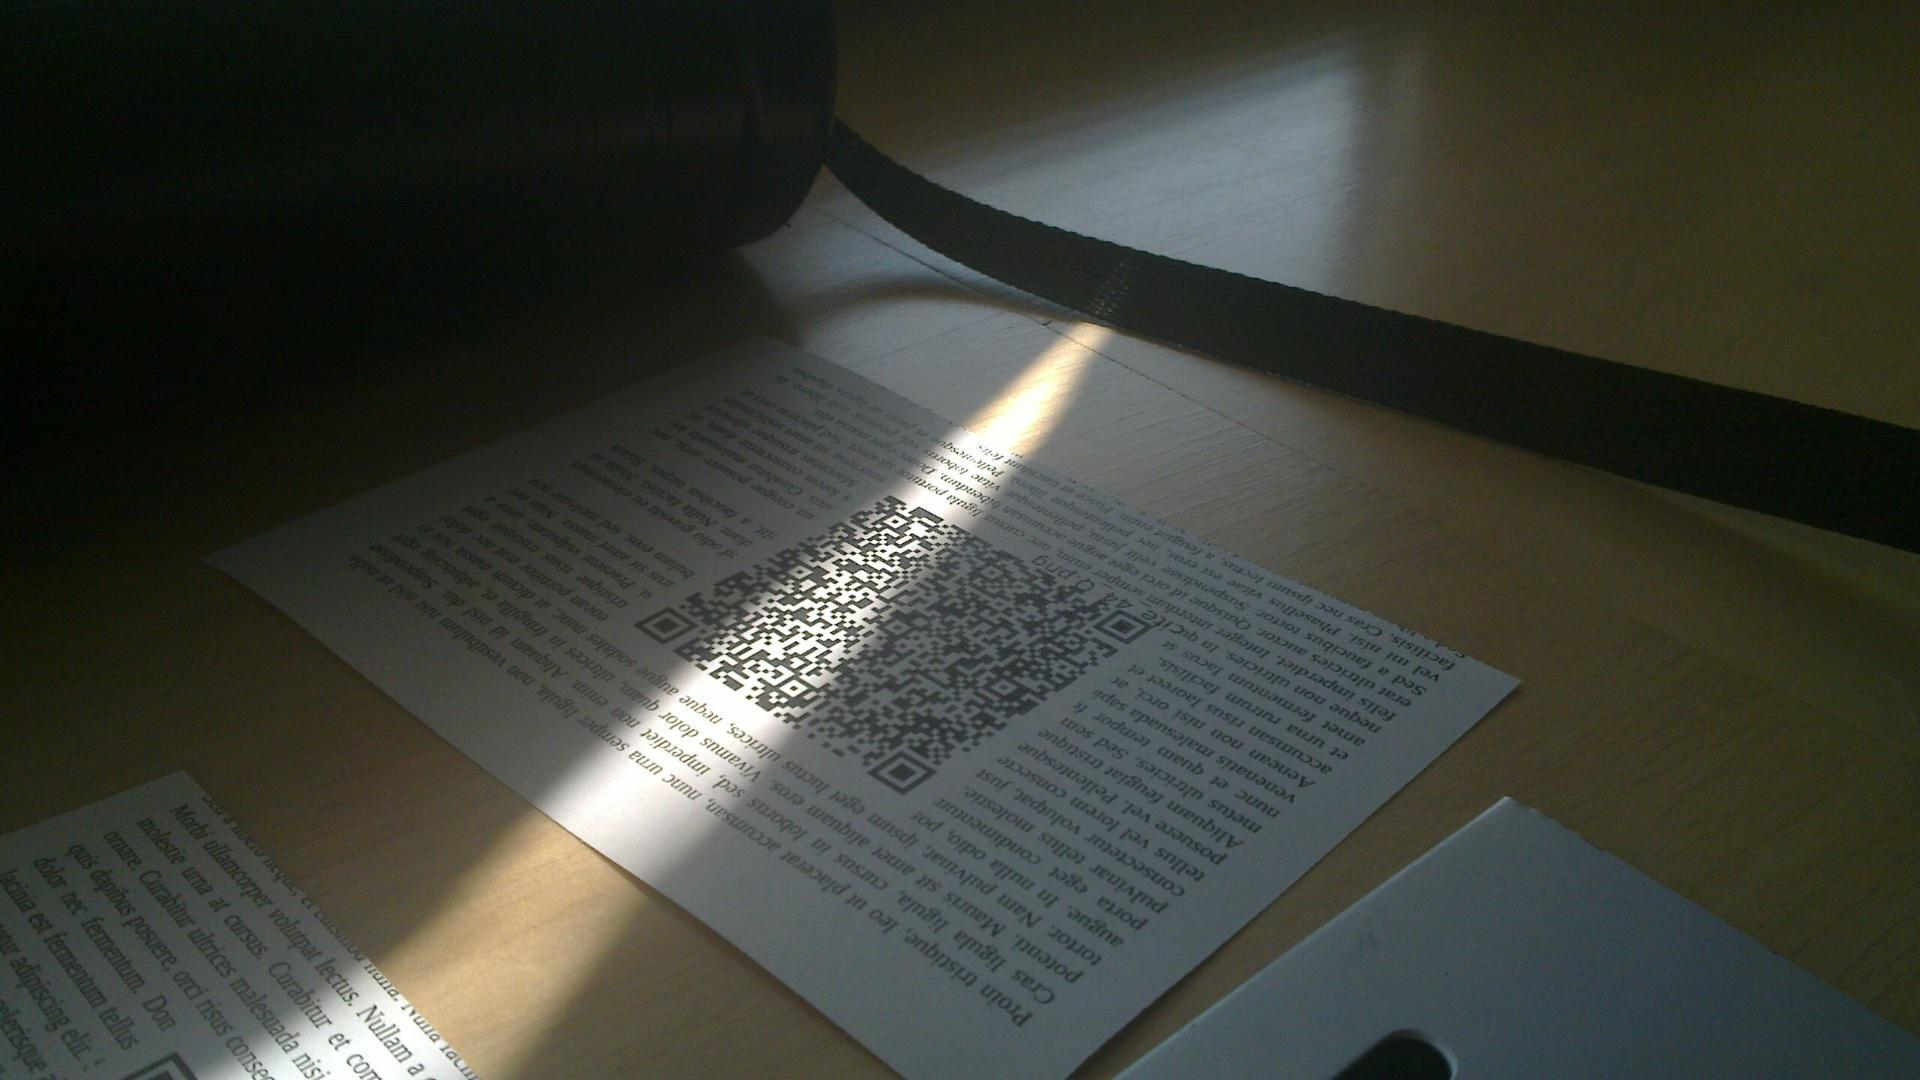Finder pattern: (869, 752, 935, 795), (633, 608, 700, 646), (1092, 611, 1159, 649)
